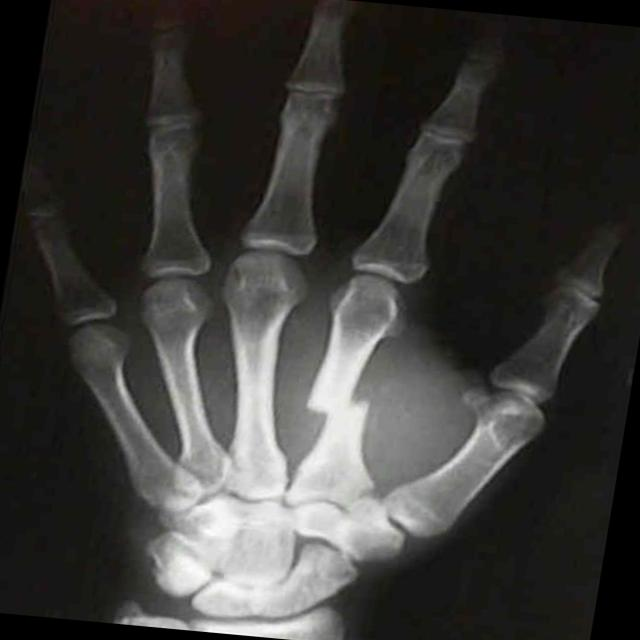Transverse Displaced: (286, 367, 392, 448)
